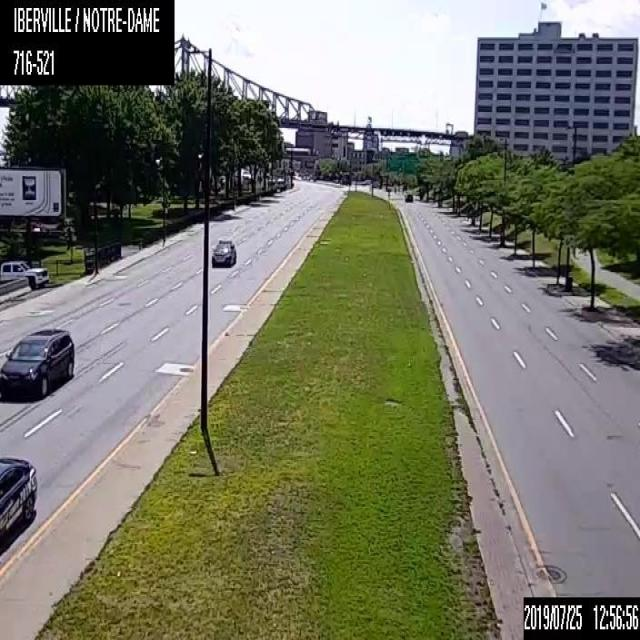vehicle: (0, 325, 74, 400), (0, 455, 37, 549), (0, 260, 48, 288), (210, 237, 235, 267), (402, 189, 412, 203)
